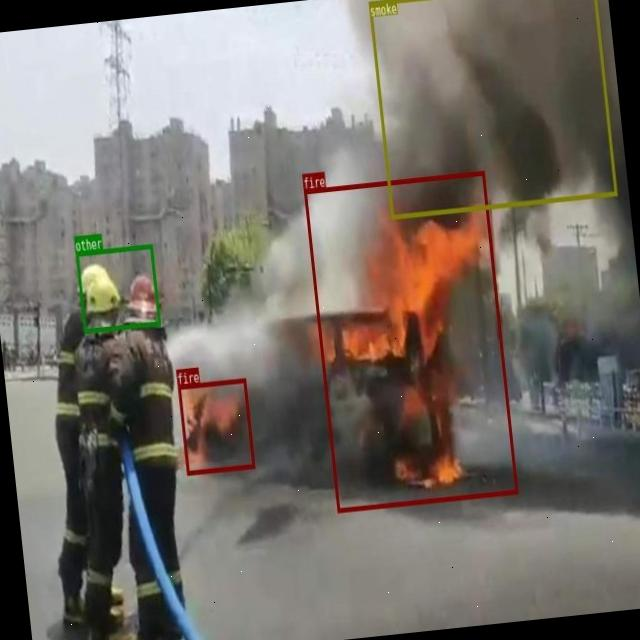fire: (303, 170, 517, 511), (177, 378, 254, 475)
smoke: (367, 0, 616, 218)
